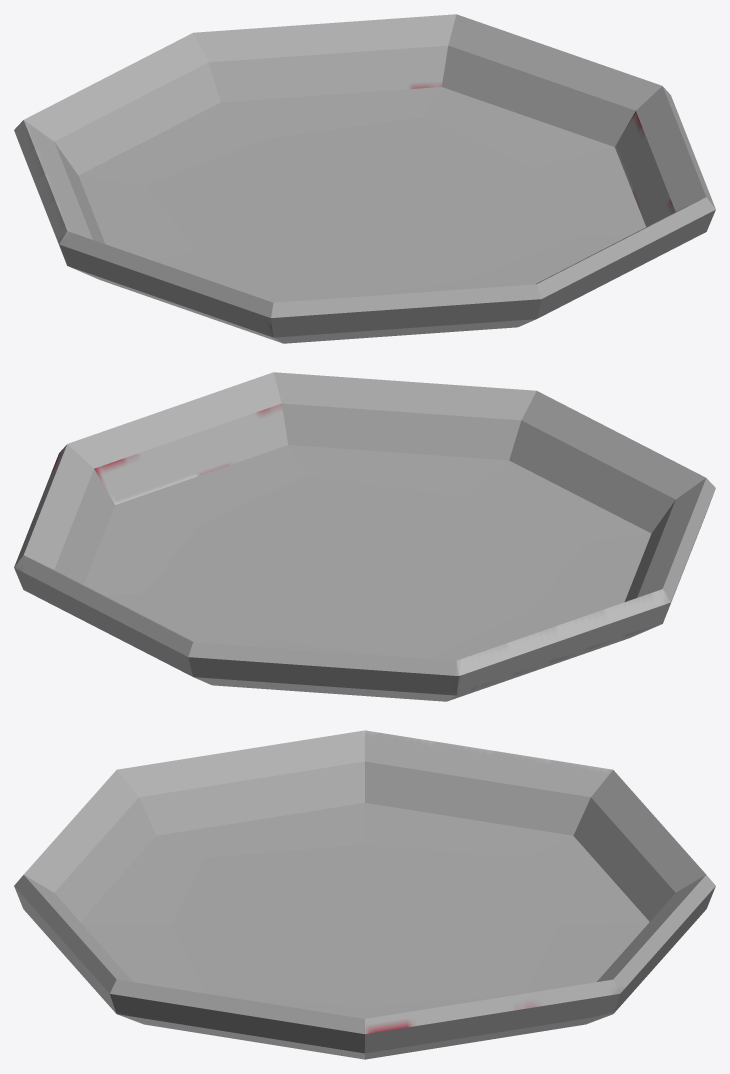
File: Plate.fbx
3 views of the same model, one above another, from view 1: azimuth 30°, elevation 25°; view 2: azimuth 150°, elevation 25°; view 3: azimuth 270°, elevation 25° (orthographic).
Parts seen in each view (by area): view 1: Cube.003; view 2: Cube.003; view 3: Cube.003.
Boxes of the visible parts, <box> form: Cube.003: <box>14,14,715,343</box>; Cube.003: <box>14,372,715,701</box>; Cube.003: <box>14,730,715,1059</box>.
Bounding box in the file's own units: 193 × 20.22 × 193.
